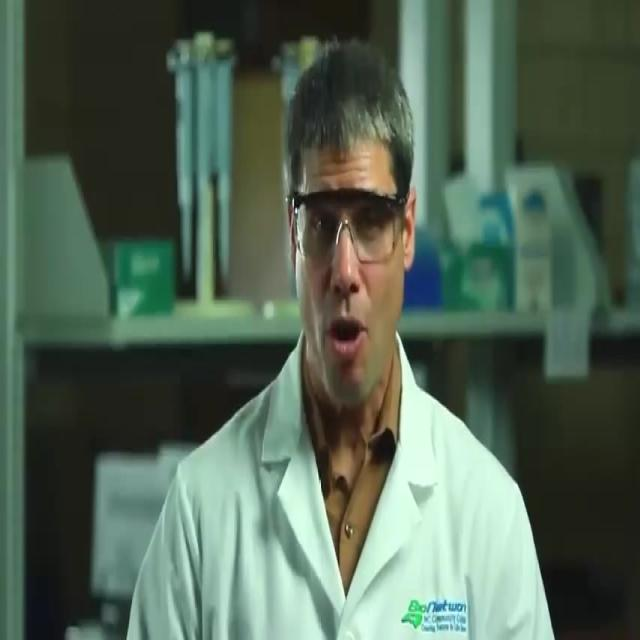googles: (293, 178, 400, 265)
labcoat: (125, 324, 555, 640)
